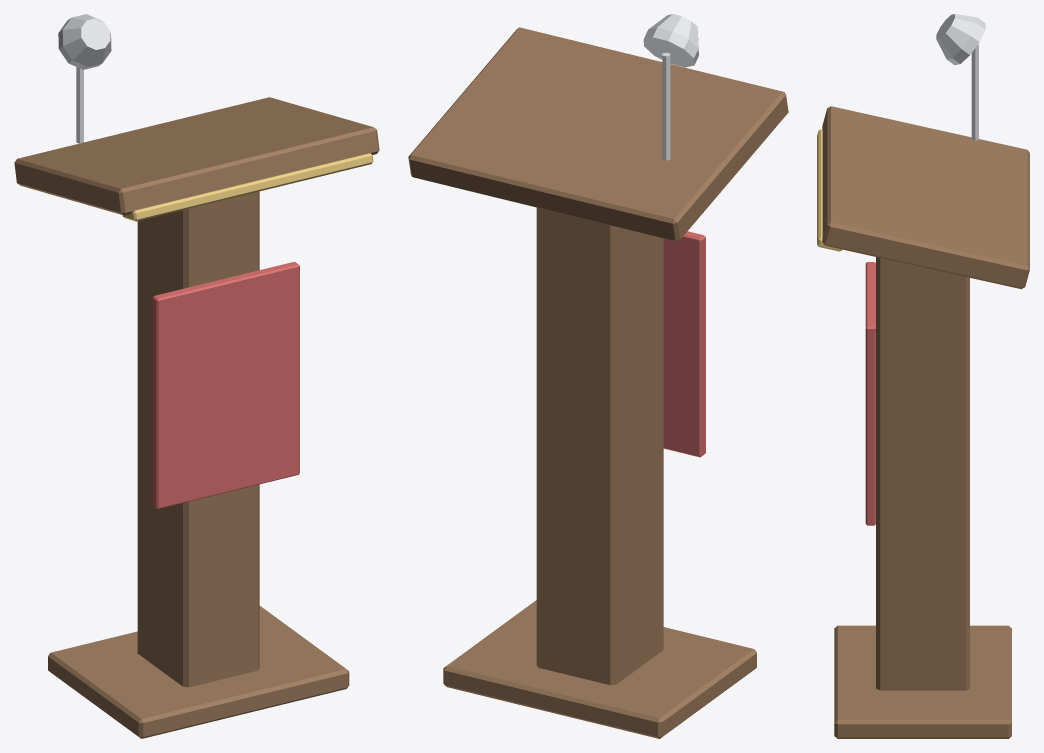
The picture shows the model from 3 angles, left to right: view 1: azimuth 30°, elevation 25°; view 2: azimuth 150°, elevation 25°; view 3: azimuth 270°, elevation 25°; orthographic projection. The views are drawn at different scales.
Parts seen in each view (by area): view 1: lectern; view 2: lectern; view 3: lectern.
Part boxes in pixels (<box>): lectern: <box>14,14,379,738</box>; lectern: <box>408,14,788,738</box>; lectern: <box>817,14,1029,738</box>.
Bounding box in the file's own units: 0.54 × 1.34 × 0.408.
